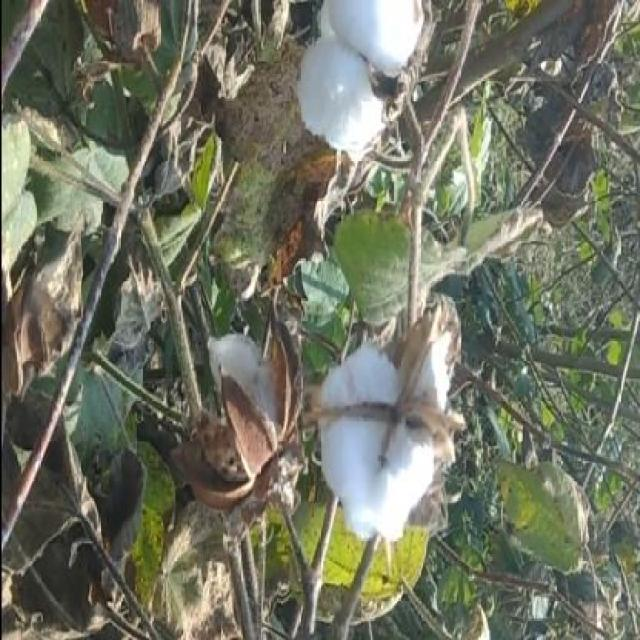cotton_ready: (313, 311, 479, 547)
